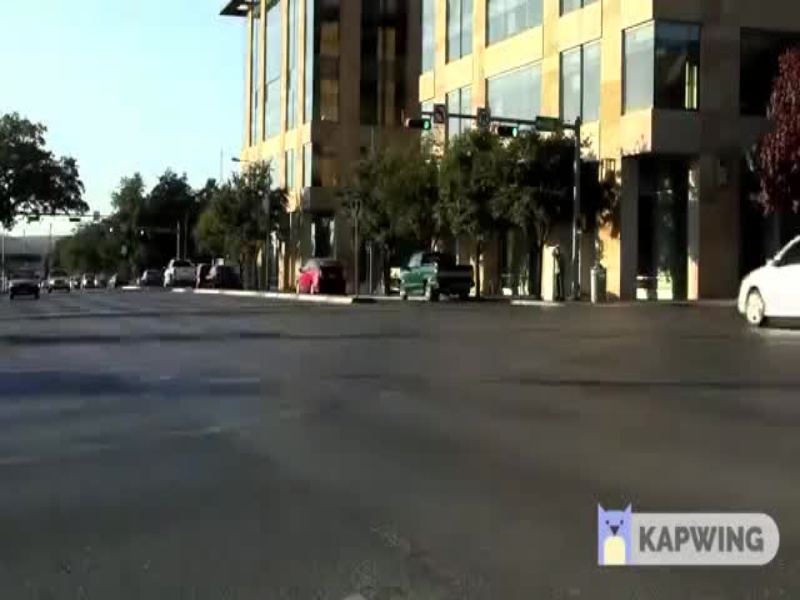truck: (382, 249, 476, 309)
